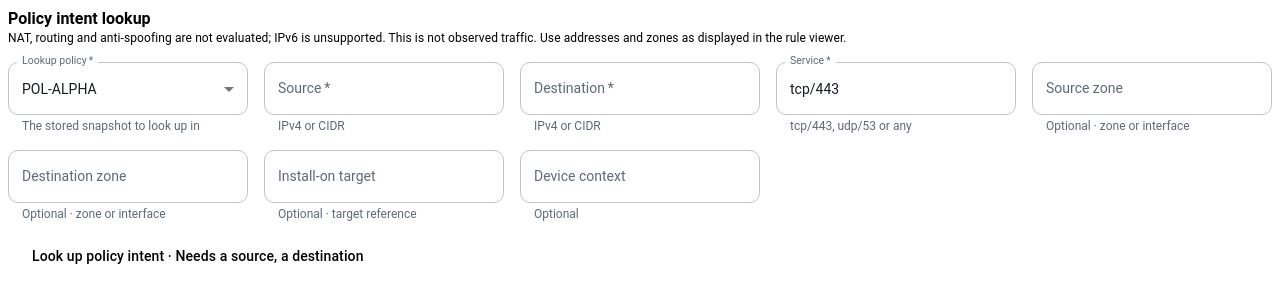
Scenario: Policy lookup (UI review 2026-10-18, F-10) › has short labels and a real disabled button that says what it is waiting for
Check: the text "Lookup policy" is shown, box top-left (22, 54), bottom-right (87, 66)
Check: the text "Source" is shown, box top-left (278, 80), bottom-right (321, 96)
Type "192.0.2.8" into the field labelled "Source *". click: (384, 89)
box: top-left (264, 62), bottom-right (504, 115)
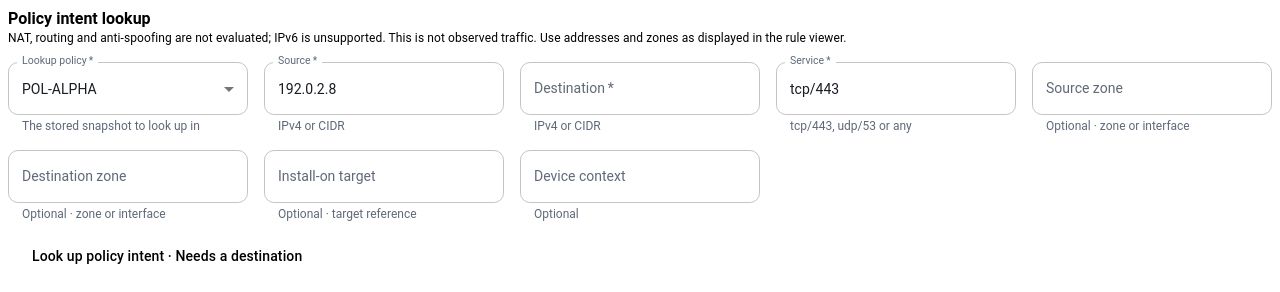
Check: the button "Look up policy intent · Needs a destination" is disabled, box top-left (8, 238), bottom-right (326, 275)
Type "198.51.100.8" into the field labelled "Destination *". click: (640, 89)
box: top-left (520, 62), bottom-right (760, 115)
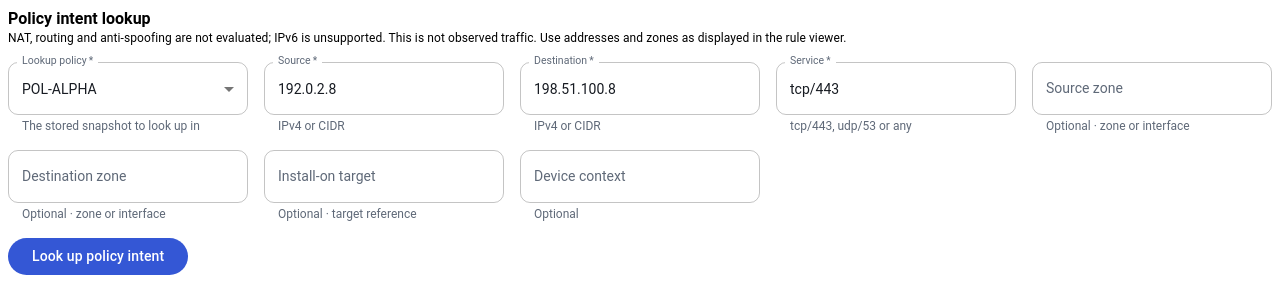
Check: the button "Look up policy intent" is enabled, box top-left (8, 238), bottom-right (188, 275)
